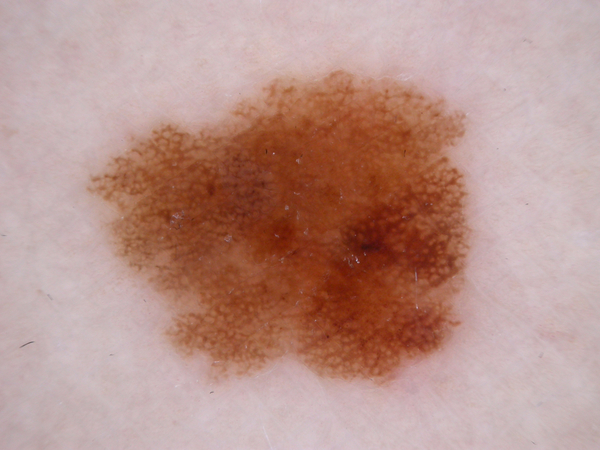Detected Lesion: (84, 61, 479, 391)
